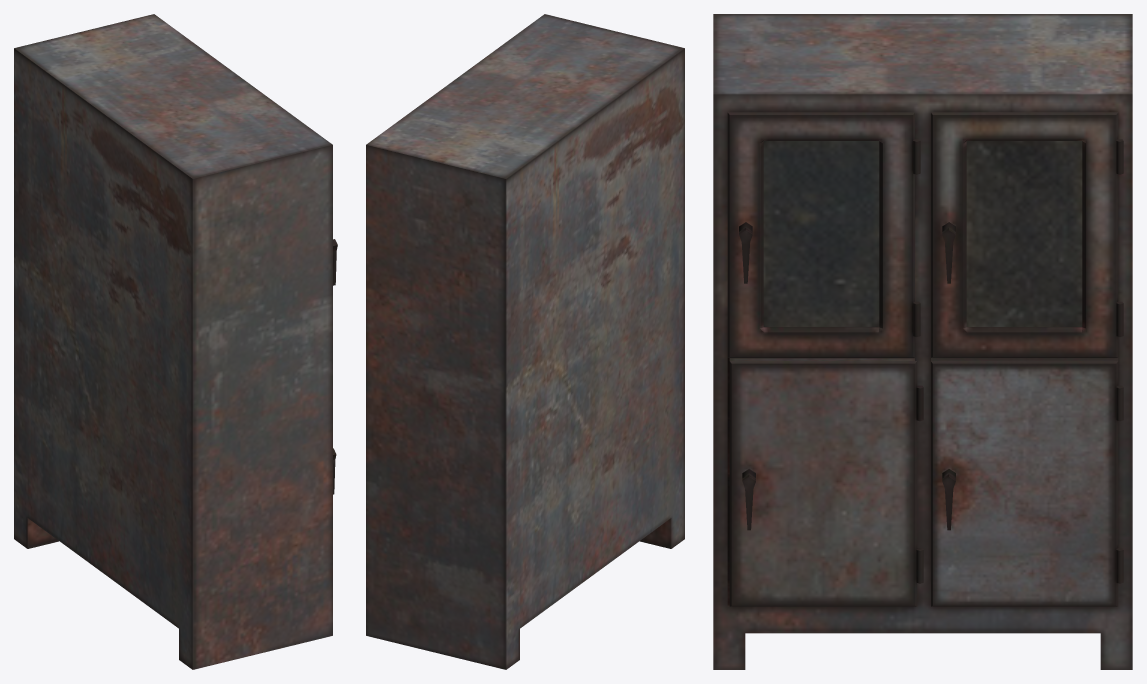
The model's file is MetalCabinet_S4DoorsGlass.FBX.
3 views of the same model, side by side, from view 1: azimuth 30°, elevation 25°; view 2: azimuth 150°, elevation 25°; view 3: azimuth 270°, elevation 25° (orthographic). The views are drawn at different scales.
Visible parts, largest first — view 1: MetalCabinet_S4DoorsGlass; view 2: MetalCabinet_S4DoorsGlass; view 3: MetalCabinet_S4DoorsGlass, L_B_Door, R_B_Door, L_T_Door, R_T_Door.
Boxes of the visible parts, box(x1,y1,x2,y2) form: MetalCabinet_S4DoorsGlass: box(14, 14, 332, 669); MetalCabinet_S4DoorsGlass: box(366, 14, 684, 669); MetalCabinet_S4DoorsGlass: box(713, 14, 1132, 669); L_B_Door: box(729, 358, 923, 606); R_B_Door: box(931, 358, 1123, 606); L_T_Door: box(727, 112, 920, 357); R_T_Door: box(931, 112, 1123, 357).
Bounding box in the file's own units: 60.6 × 182 × 120.
Materials: 2 (2 with a texture image).
